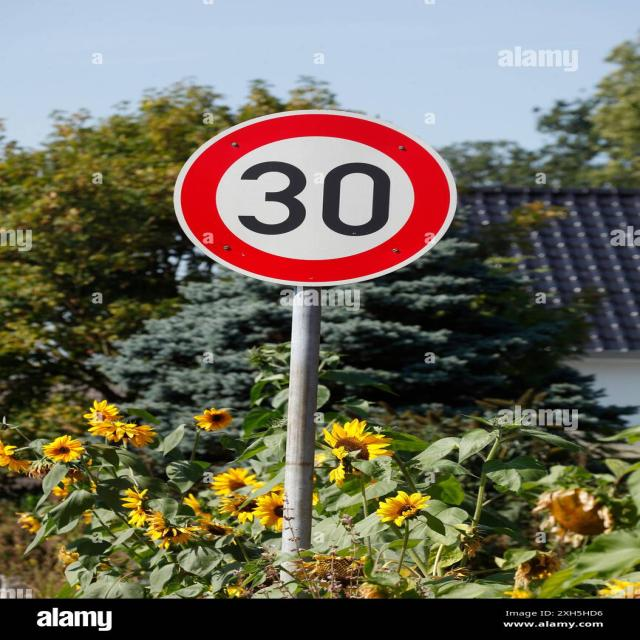speed_30: (178, 108, 457, 290)
